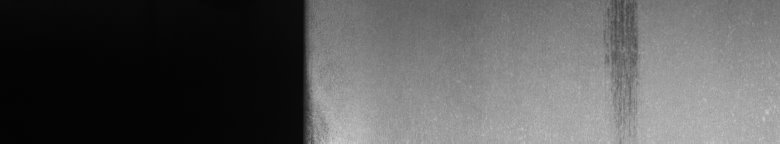ka: (602, 4, 644, 116)
